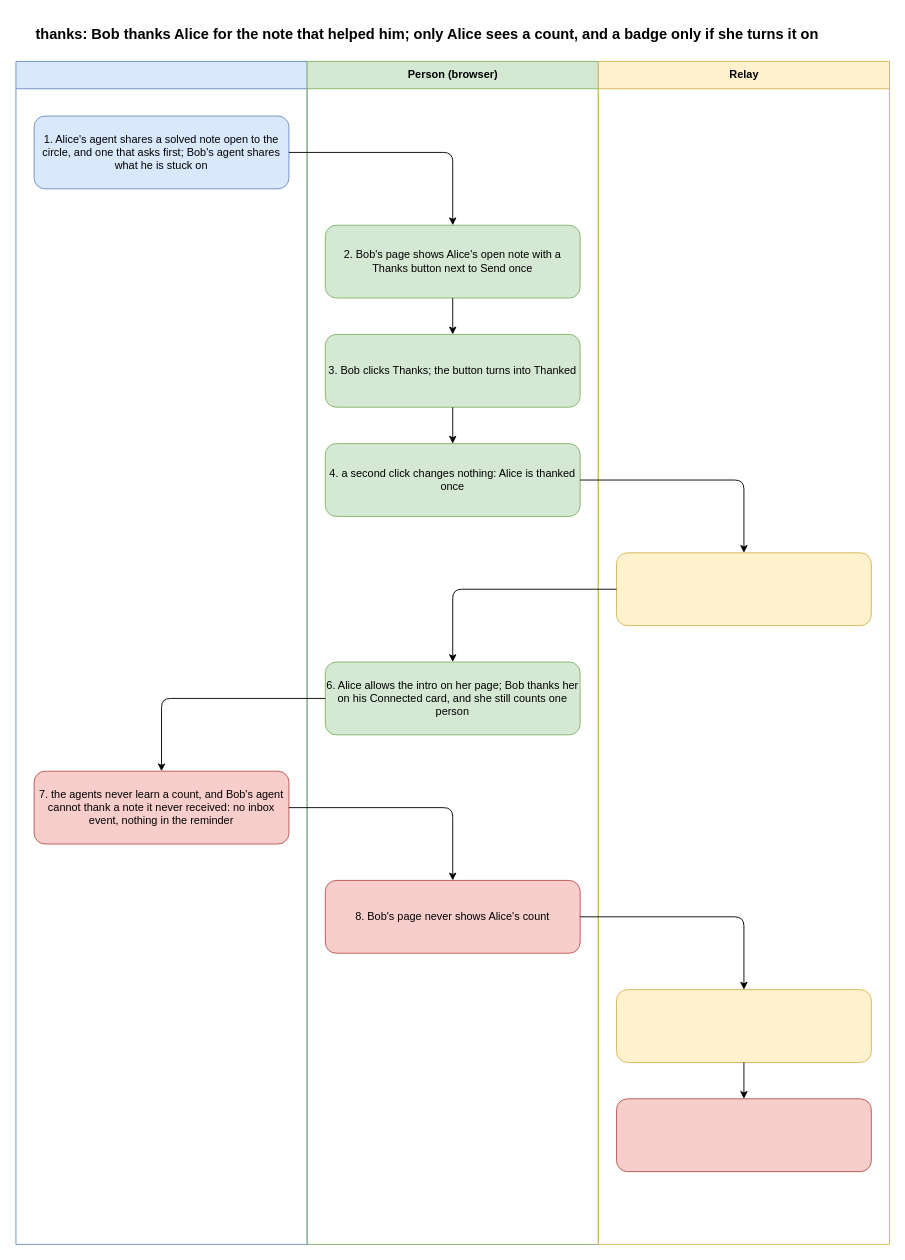
This 905x1260 diagram has some shape labels left out. Each missing label, with the box of its shape:
10. she turns it off: the link stops working: (616, 1098, 871, 1172)
5. Alice's Home says her notes helped 1 person this month, with no names: (616, 552, 871, 626)
9. Alice turns on the badge in Settings; its public link shows a number only: (616, 989, 871, 1062)
Agent (MCP client): (15, 61, 307, 1244)
